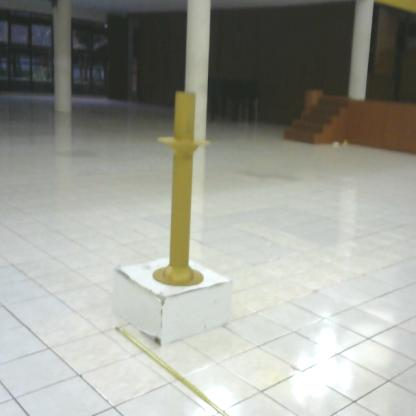pole: (151, 90, 215, 291)
